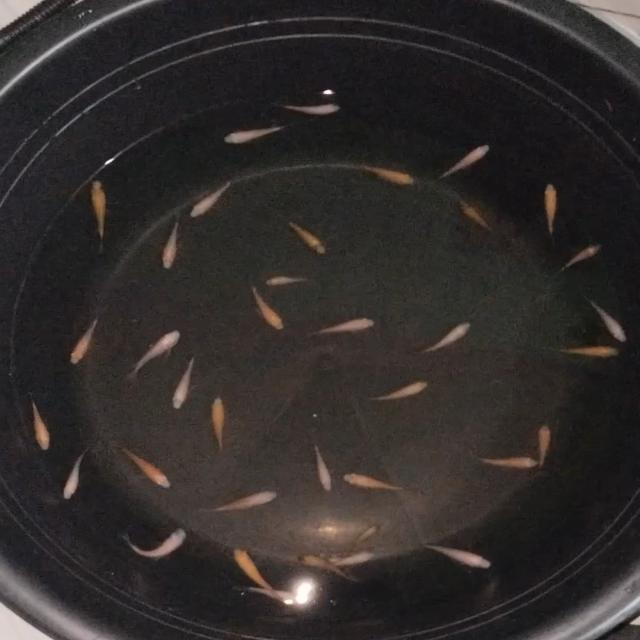nila: (126, 326, 184, 382), (292, 550, 369, 586), (187, 176, 245, 221), (118, 445, 176, 490), (198, 487, 284, 516), (120, 526, 188, 562), (418, 540, 494, 572), (230, 546, 280, 594), (436, 141, 493, 182), (420, 316, 474, 358), (338, 468, 417, 496), (280, 216, 332, 258), (586, 294, 628, 344), (86, 178, 110, 258), (240, 578, 304, 608), (307, 314, 378, 340), (248, 284, 286, 332), (67, 312, 100, 367), (322, 547, 384, 576), (213, 125, 290, 148), (361, 378, 428, 404), (306, 432, 334, 492), (60, 446, 89, 502), (272, 98, 344, 120), (538, 182, 562, 245), (354, 164, 418, 186), (558, 241, 602, 273), (458, 202, 496, 238), (468, 452, 540, 470), (160, 216, 183, 272), (531, 422, 555, 474), (174, 355, 196, 411), (348, 516, 384, 550), (30, 394, 51, 452), (209, 394, 228, 452), (554, 344, 622, 358), (260, 274, 314, 289)
